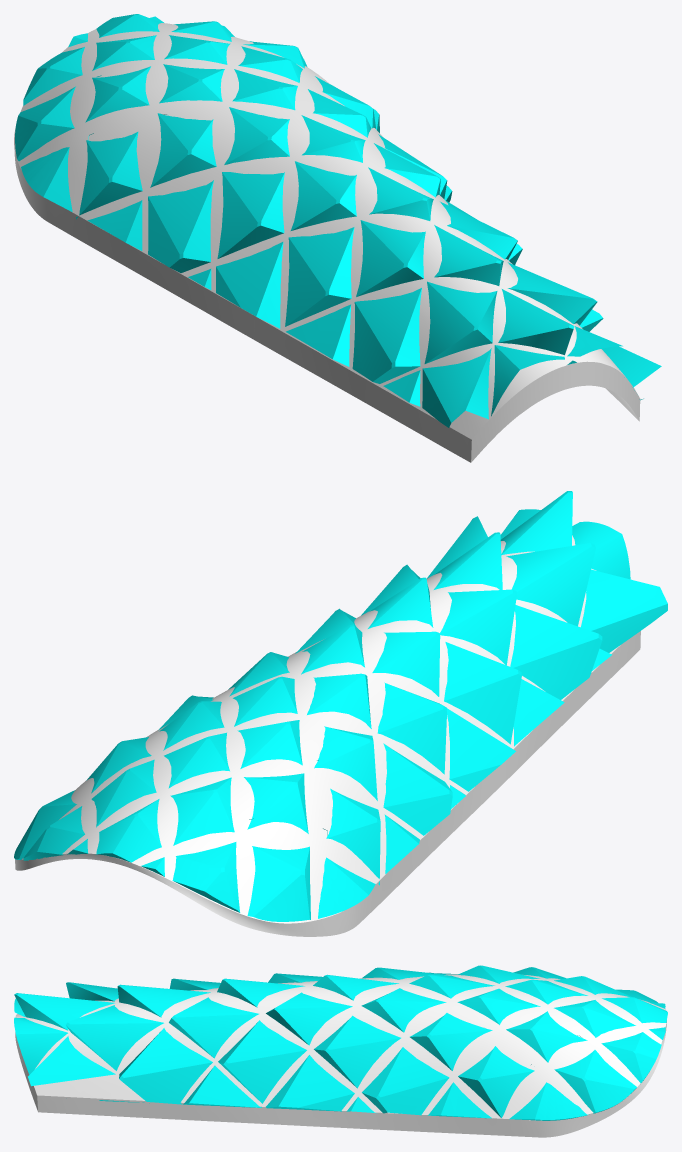
The model's file is dragon-scale-web.glb.
3 renders of one model, top to bottom at view 1: azimuth 30°, elevation 25°; view 2: azimuth 150°, elevation 25°; view 3: azimuth 270°, elevation 25°, orthographic. The views are drawn at different scales.
Visible parts, largest first — view 1: MW 1.0 534480 US, object 1; view 2: MW 1.0 534480 US, object 1; view 3: MW 1.0 534480 US, object 1.
Boxes of the visible parts, x1,y1,x2,y2 form: MW 1.0 534480 US: (15, 14, 661, 427); object 1: (14, 23, 640, 462); MW 1.0 534480 US: (14, 491, 667, 921); object 1: (15, 535, 640, 936); MW 1.0 534480 US: (14, 965, 667, 1120); object 1: (15, 974, 666, 1137).
Size of the model in its own units: 0.0144 by 0.00644 by 0.0351.
